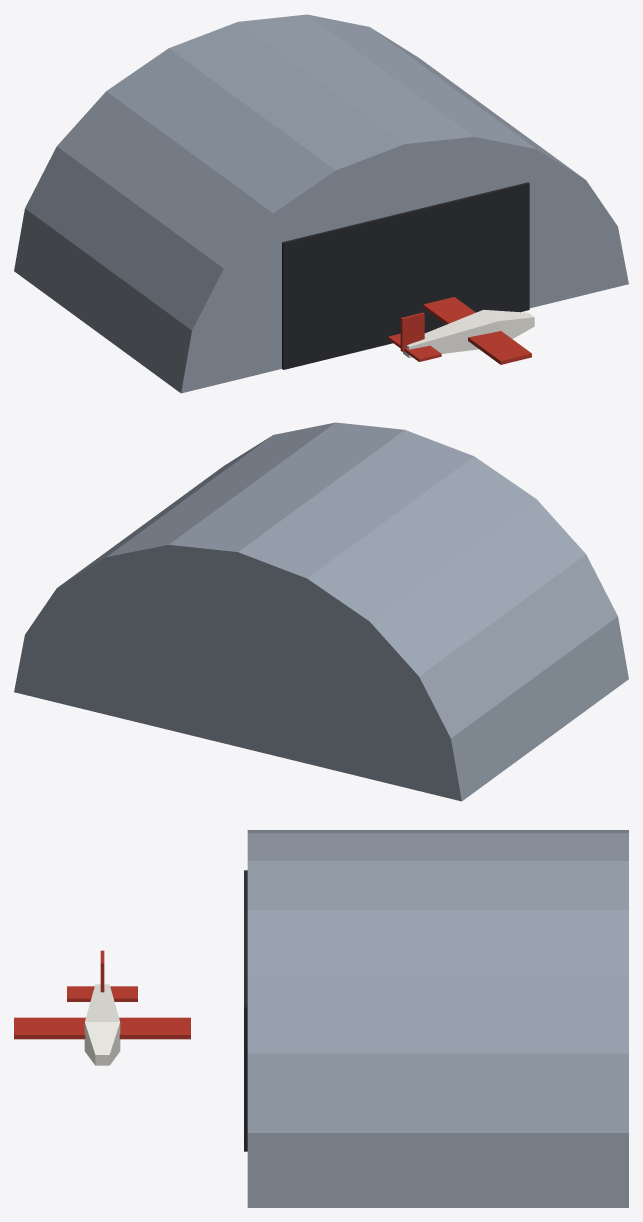
Rendered from building_hangar.fbx.
3 views of the same model, one above another, from view 1: azimuth 30°, elevation 25°; view 2: azimuth 150°, elevation 25°; view 3: azimuth 270°, elevation 25° (orthographic). The views are drawn at different scales.
Visible parts, largest first — view 1: building_hangar; view 2: building_hangar; view 3: building_hangar.
Part boxes in pixels (bbox=[...]): building_hangar: bbox=[14, 14, 628, 393]; building_hangar: bbox=[14, 422, 628, 801]; building_hangar: bbox=[14, 830, 628, 1207].
Bounding box in the file's own units: 65 × 27 × 67.75.
